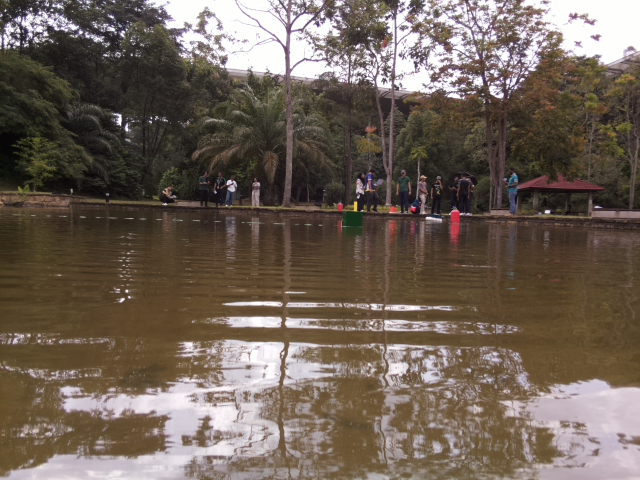obstacle: (341, 211, 364, 228)
